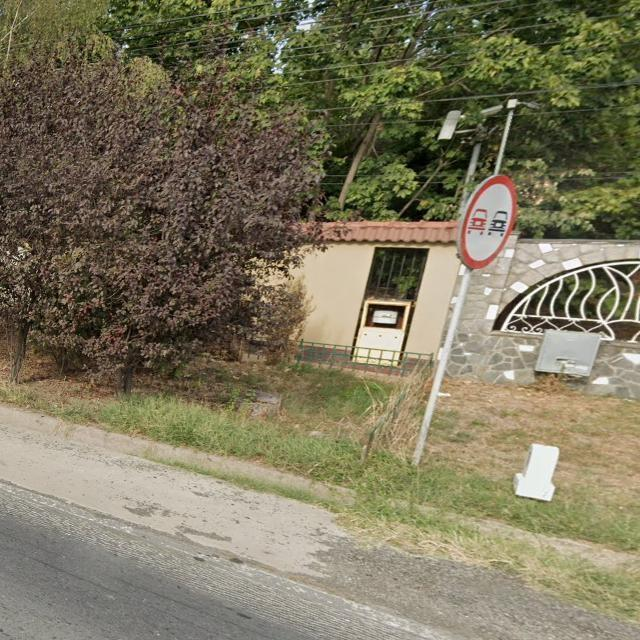forb_overtake: (459, 173, 518, 270)
